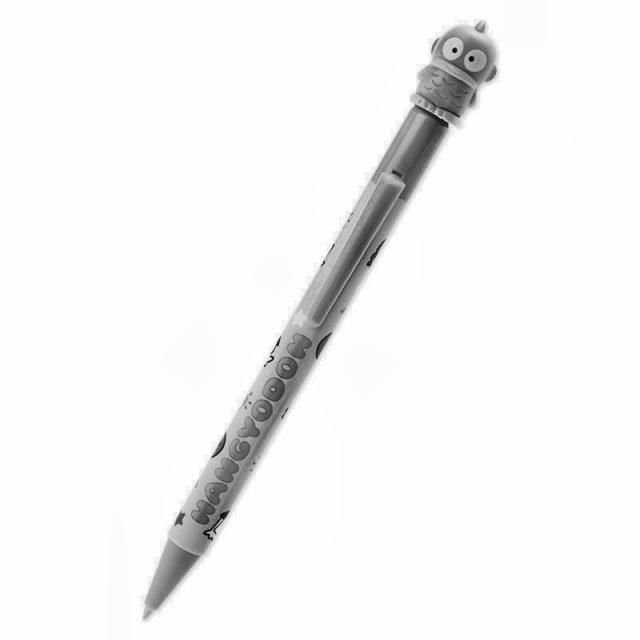Pen: (144, 22, 498, 618)
